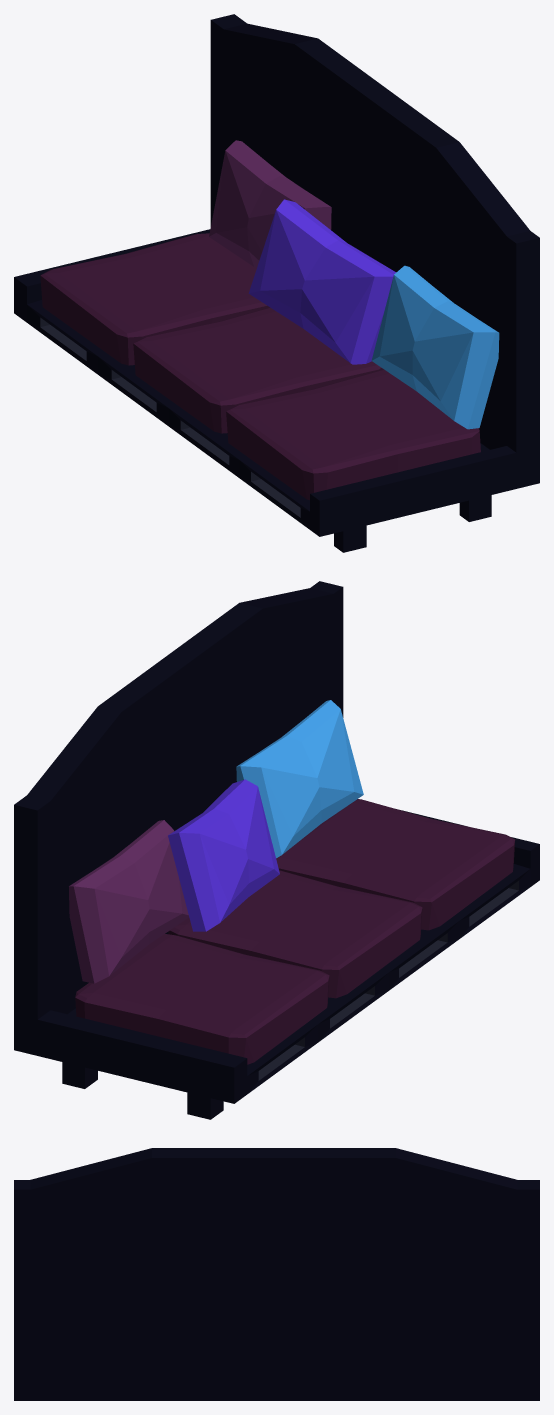
The model's file is Fader_TableBench.fbx.
3 views of the same model, one above another, from view 1: azimuth 30°, elevation 25°; view 2: azimuth 150°, elevation 25°; view 3: azimuth 270°, elevation 25° (orthographic). The views are drawn at different scales.
Parts seen in each view (by area): view 1: Cube.001; view 2: Cube.001; view 3: Cube.001.
Part boxes in pixels (x1,y1,x2,y2): Cube.001: [14, 14, 539, 552]; Cube.001: [14, 581, 539, 1119]; Cube.001: [14, 1148, 539, 1400].
Bounding box in the file's own units: 89.87 × 119 × 216.
